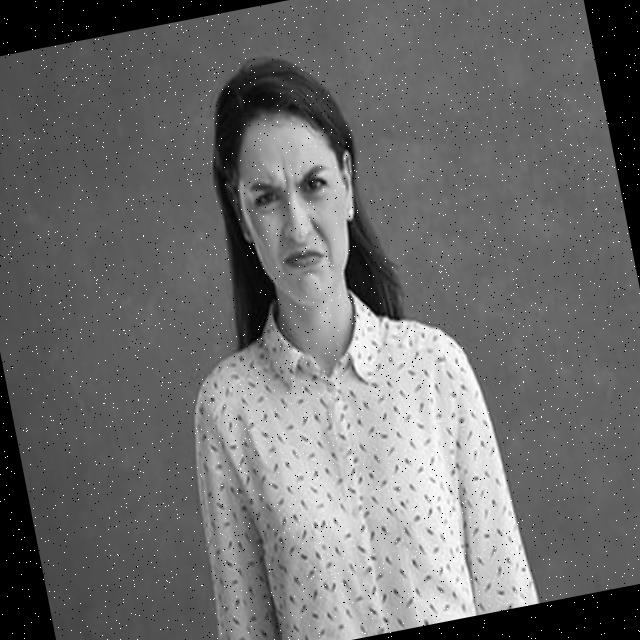Disgust: (220, 95, 368, 316)
